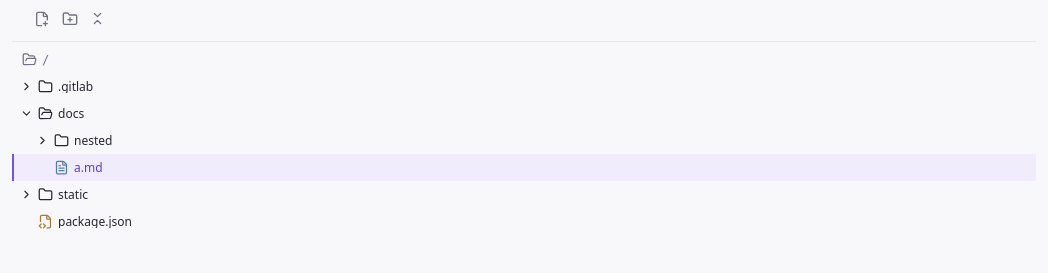
Test: shows folders first, opens only selected ancestors and preserves actual names
Expected: the list item ".gitlab" is shown, [12,73,1036,100]
Expected: the list item "b.md" is not shown
Click the list item "nested".
click(93, 140)  # box [12,127,1036,154]
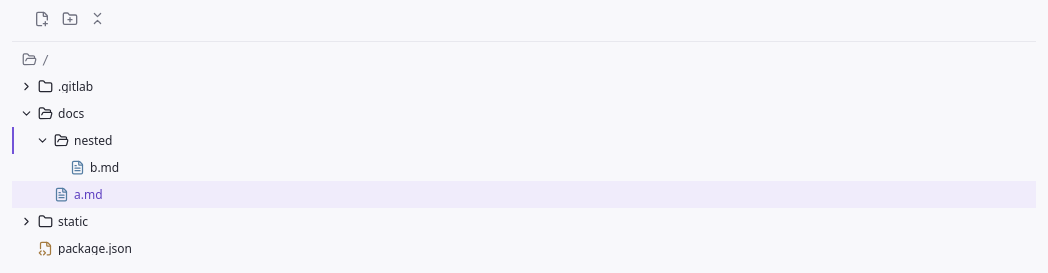
Click the button named "Свернуть все папки".
click(98, 20)  # box [84,6,111,34]
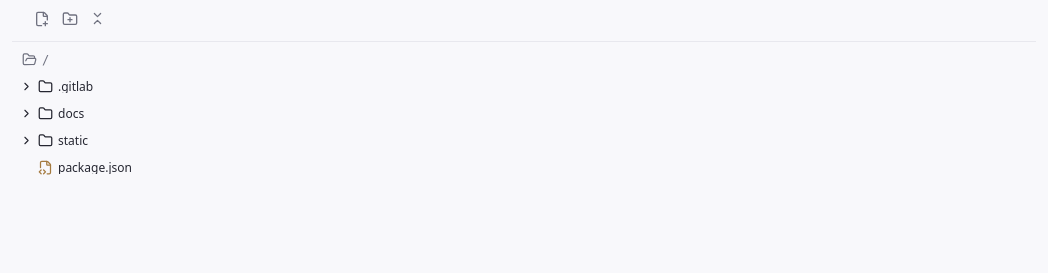
Now the list item "a.md" is gone
